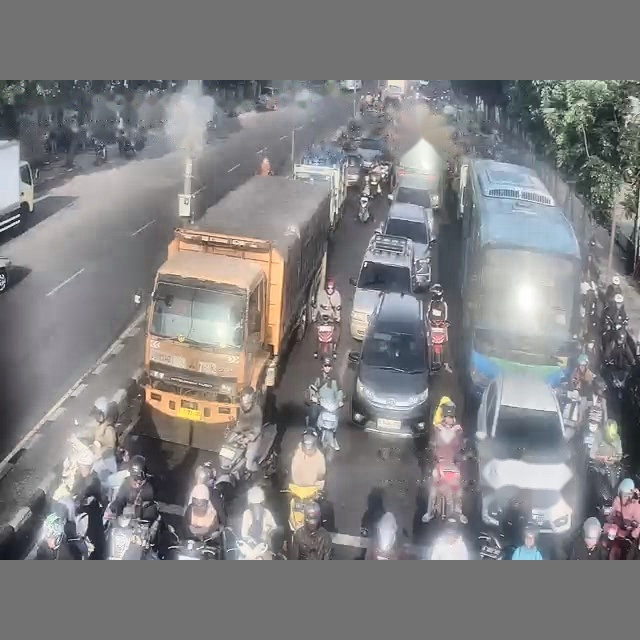Bis: (458, 159, 580, 398)
Mobil: (475, 372, 580, 533), (348, 293, 428, 437), (349, 232, 416, 340), (381, 203, 437, 288), (388, 175, 437, 238), (615, 220, 634, 272), (357, 137, 387, 169), (346, 153, 362, 186), (256, 87, 277, 110), (227, 100, 255, 116), (0, 257, 11, 293)
Motor: (105, 508, 159, 559), (308, 385, 343, 461), (215, 429, 249, 502), (588, 456, 623, 518), (284, 483, 321, 533), (429, 319, 449, 370), (314, 314, 336, 358), (358, 193, 370, 222), (94, 141, 106, 165)
Truk: (142, 176, 330, 450), (292, 145, 347, 232), (0, 140, 36, 232)
